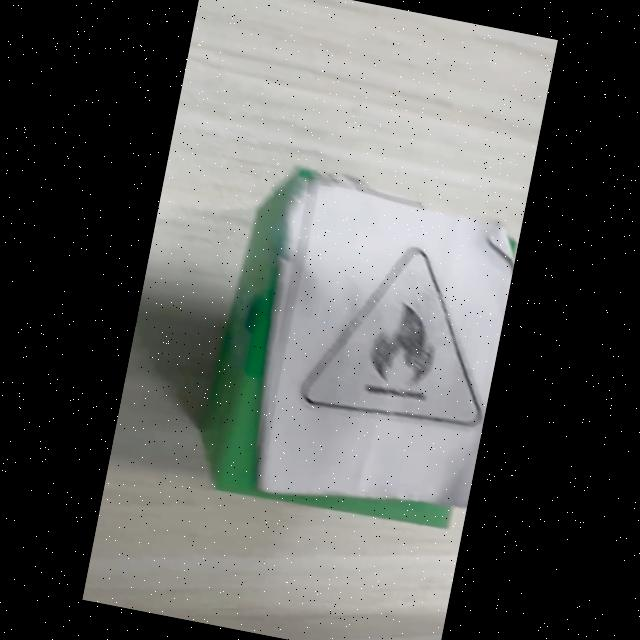Fire: (302, 248, 482, 427)
